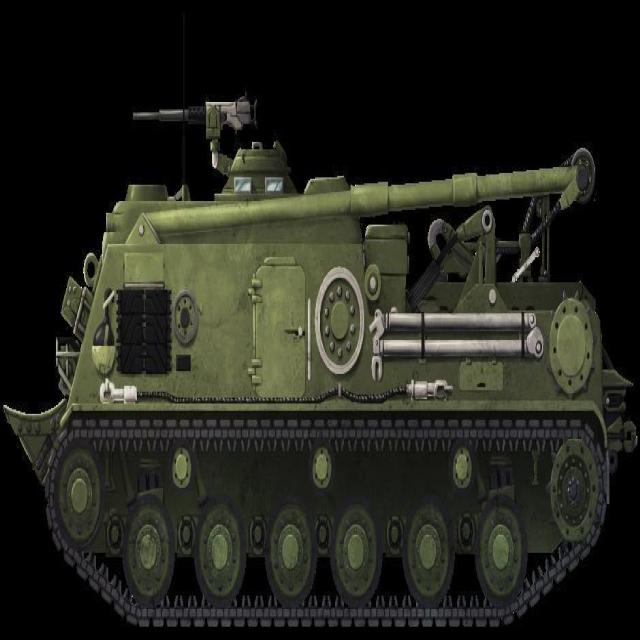Tanks: (4, 99, 618, 631)
